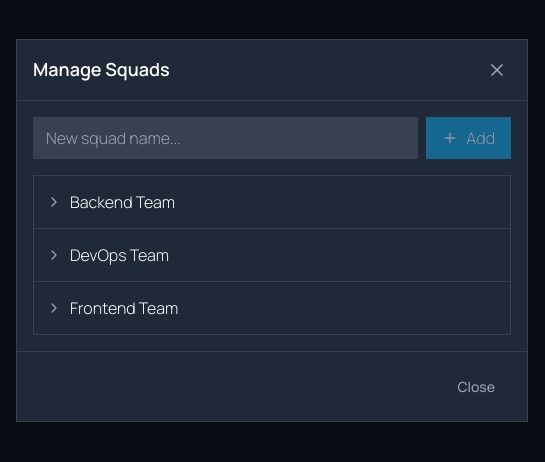
Scenario: ManageSquadsModal › user list functionality › shows empty state when squad has no users
Step 1. Click the text "Frontend Team" → (124, 308), box [70, 296, 178, 320]
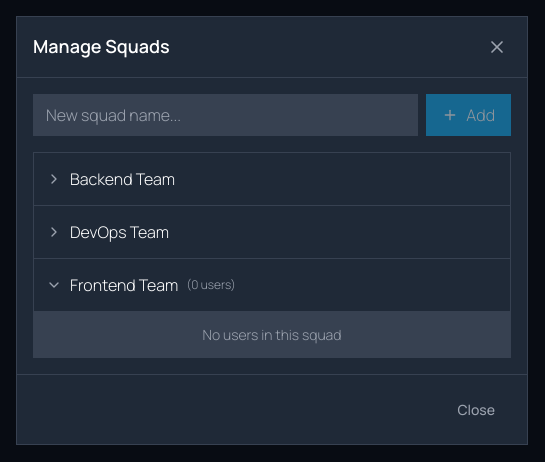
expect the text "No users in this squad" is shown: met, box [203, 324, 341, 344]
